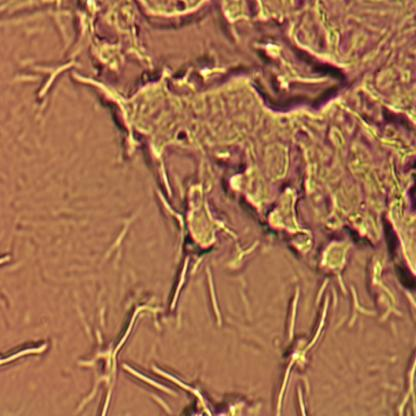Stage I: (82, 0, 416, 310)
